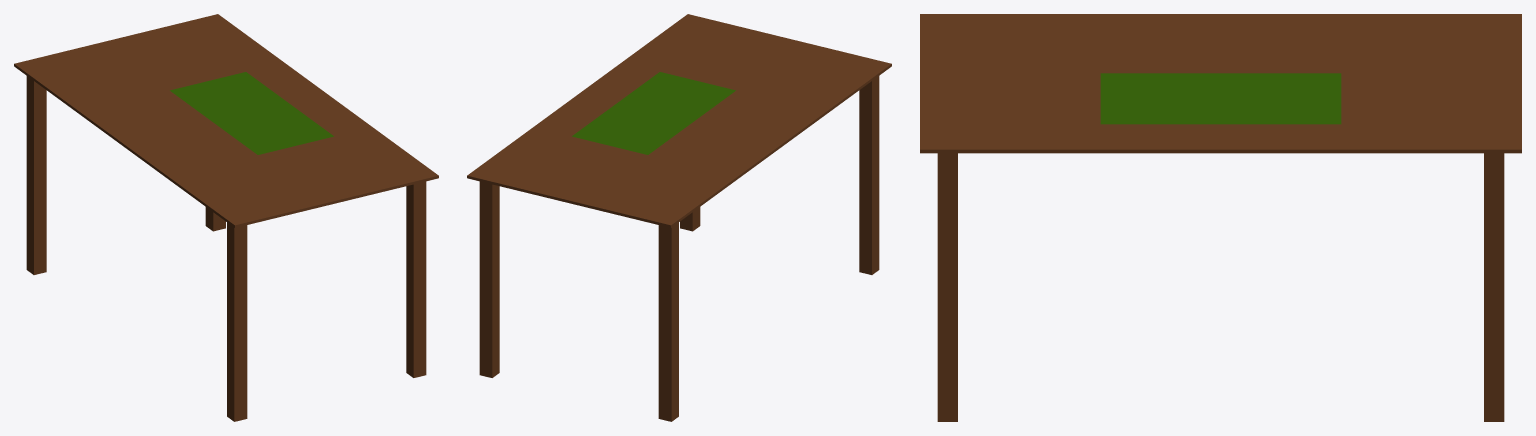
Rendered from tafel.fbx.
3 views of the same model, side by side, from view 1: azimuth 30°, elevation 25°; view 2: azimuth 150°, elevation 25°; view 3: azimuth 270°, elevation 25° (orthographic). The views are drawn at different scales.
Parts seen in each view (by area): view 1: Model; view 2: Model; view 3: Model.
Part boxes in pixels (x1,y1,x2,y2): Model: [14, 14, 438, 421]; Model: [467, 14, 891, 421]; Model: [920, 14, 1521, 421].
Bounding box in the file's own units: 8000 × 7600 × 15000.
